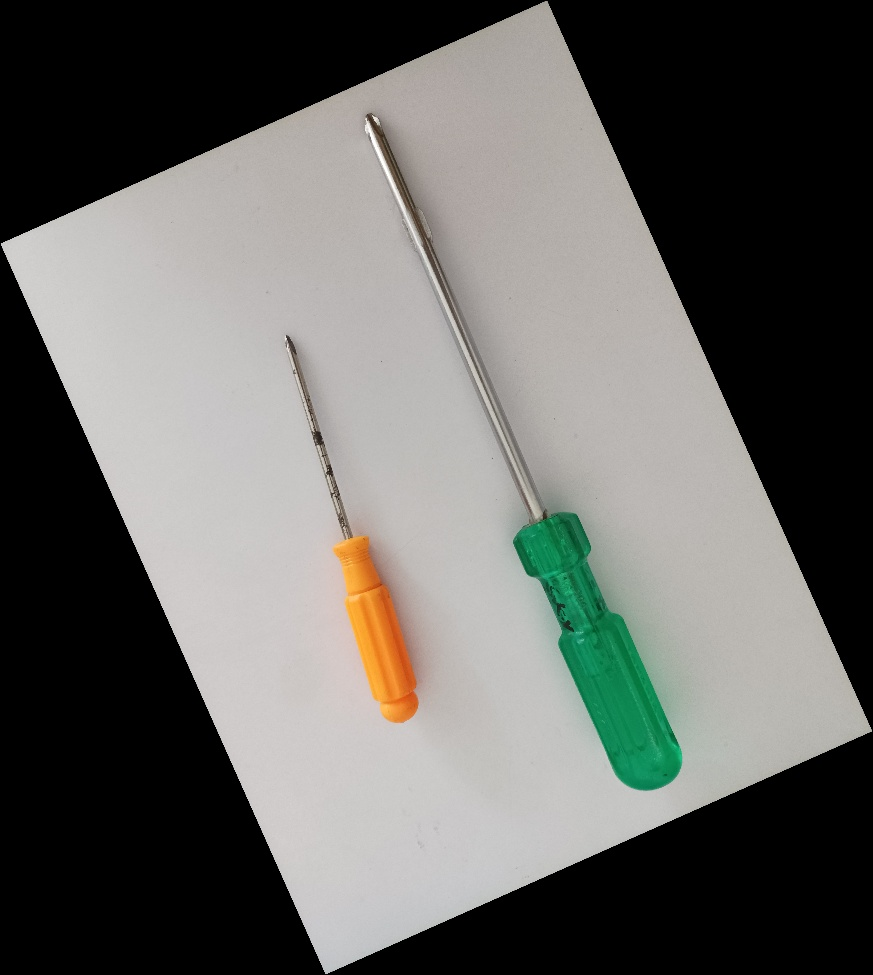screwdriver: (360, 106, 688, 795), (277, 326, 427, 729)
